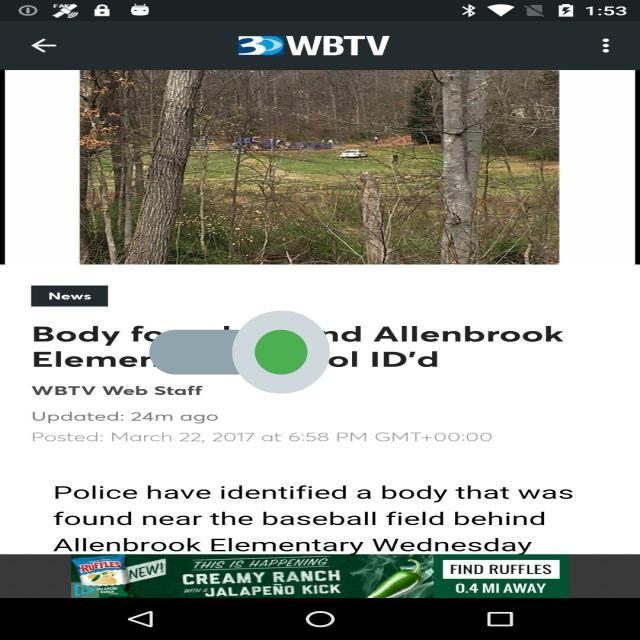social proof: (149, 275, 330, 429)
